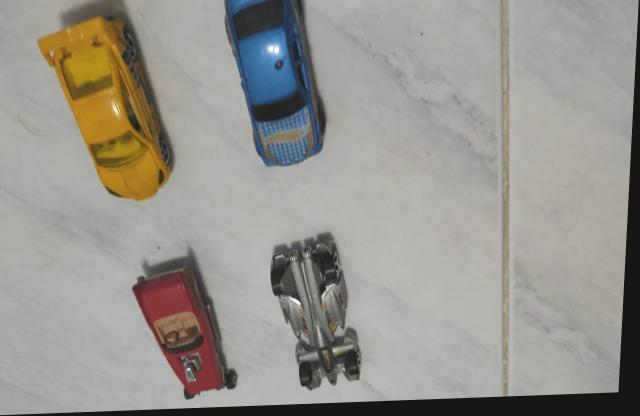03_V8: (134, 265, 243, 401)
04_MERZEDES: (222, 0, 328, 169)
05_DC121: (271, 237, 368, 392)
07_RHLTURBO: (37, 15, 177, 202)
